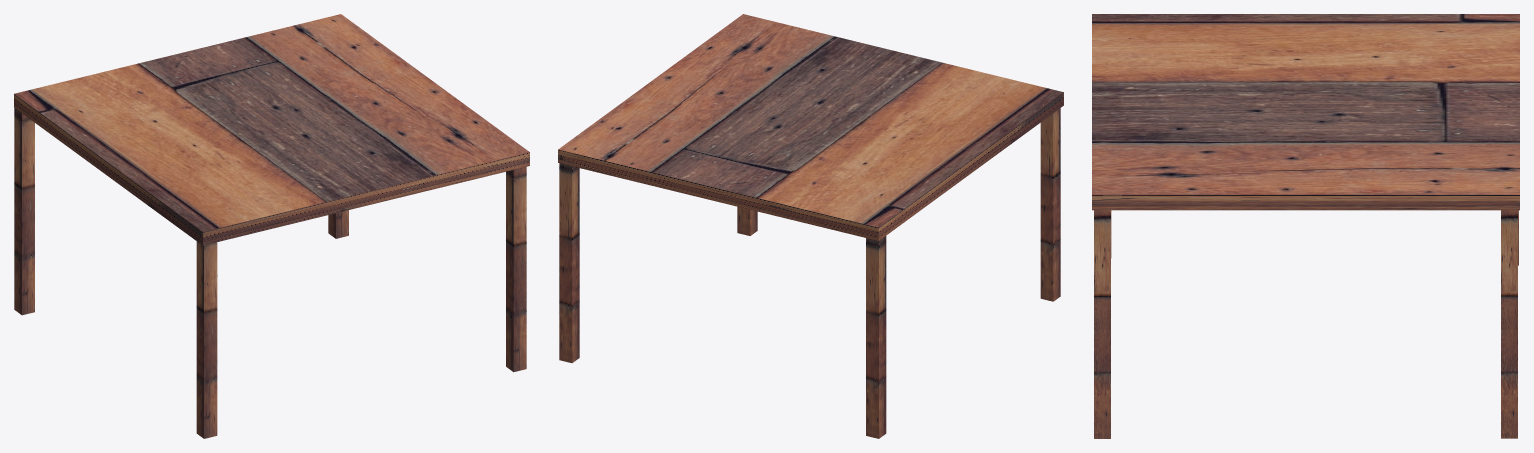
Rendered from mesa.glb.
3 renders of one model, left to right at view 1: azimuth 30°, elevation 25°; view 2: azimuth 150°, elevation 25°; view 3: azimuth 270°, elevation 25°, orthographic. The views are drawn at different scales.
Visible parts, largest first — view 1: Cube, Cube.004, Cube.002, Cube.003, Cube.001; view 2: Cube, Cube.003, Cube.001, Cube.004, Cube.002; view 3: Cube, Cube.001, Cube.002.
Part boxes in pixels (bbox=[...]): Cube: bbox=[14, 14, 529, 245]; Cube.004: bbox=[196, 241, 217, 438]; Cube.002: bbox=[506, 167, 526, 372]; Cube.003: bbox=[14, 108, 34, 315]; Cube.001: bbox=[328, 210, 348, 238]; Cube: bbox=[558, 14, 1063, 240]; Cube.003: bbox=[866, 236, 886, 438]; Cube.001: bbox=[559, 163, 579, 362]; Cube.004: bbox=[1040, 108, 1060, 301]; Cube.002: bbox=[737, 206, 757, 235]; Cube: bbox=[1092, 14, 1519, 210]; Cube.001: bbox=[1501, 210, 1517, 438]; Cube.002: bbox=[1094, 210, 1110, 438].
Bounding box in the file's own units: 2 × 1.27 × 2.
Materials: 1 (1 with a texture image).
